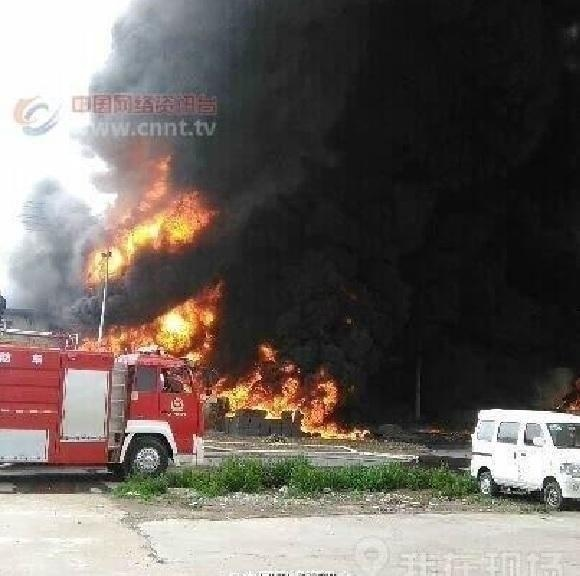fire: (76, 273, 359, 450), (84, 156, 216, 281)
